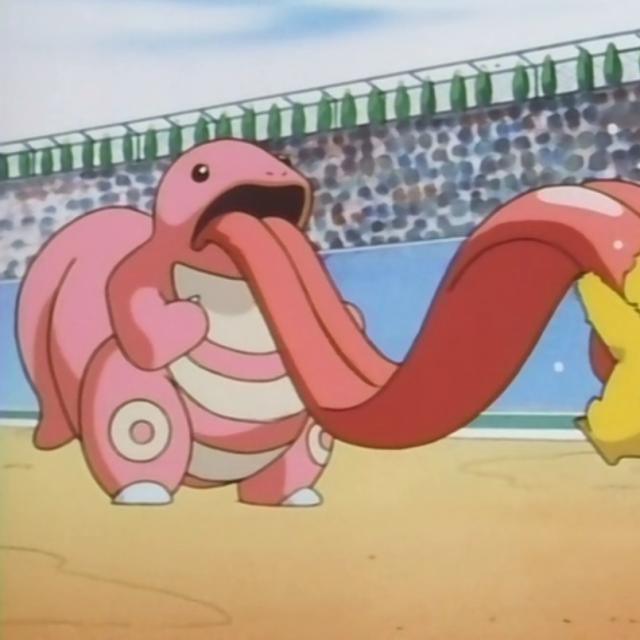Lickitung: (13, 131, 377, 516)
